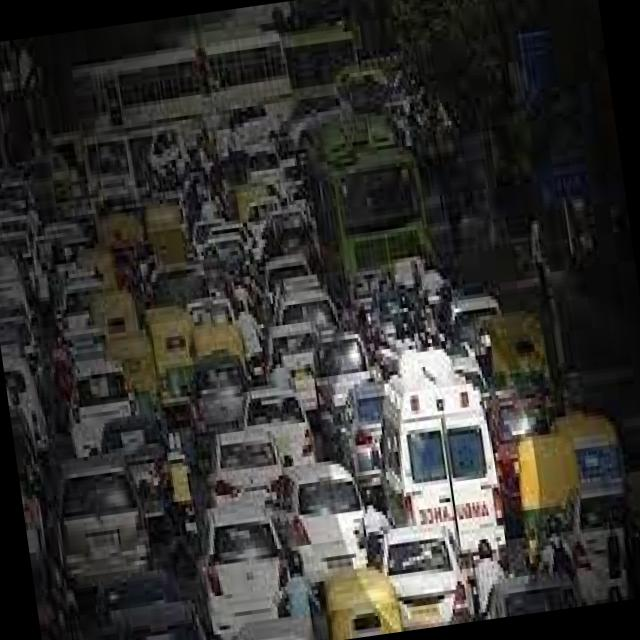ambulance: (376, 341, 500, 536)
